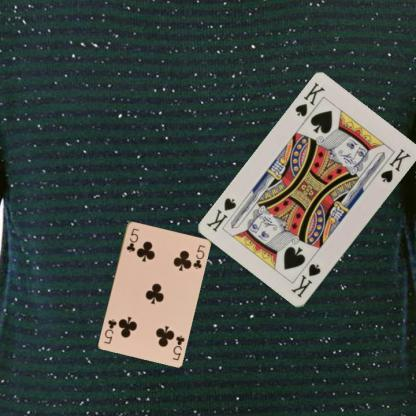5c: (170, 332, 186, 361), (124, 225, 140, 253)
Ks: (288, 261, 322, 300), (292, 80, 326, 118)
